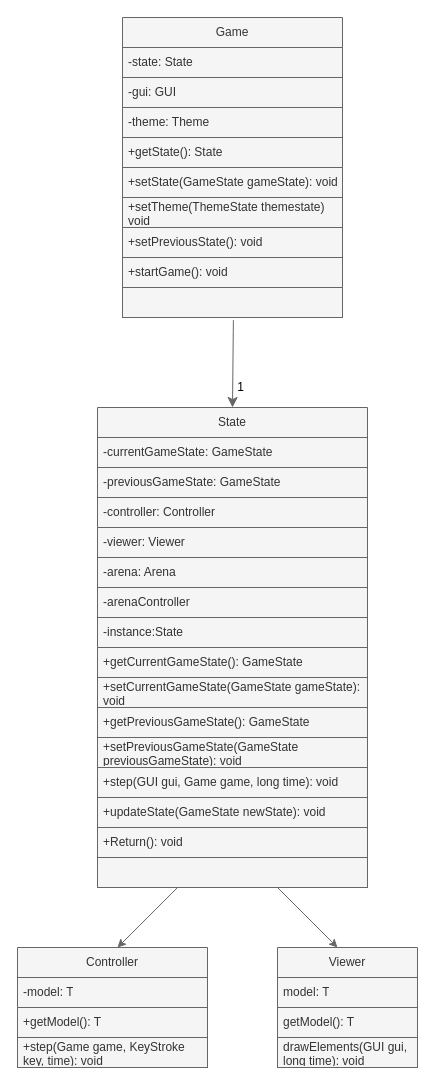
The diagram is 435 pixels wide and 1085 high, and some of its shapes have lost their labels. Here are the shapes that lost their labels. From the top down, the centre of each, then its label:
At (232,302): "+main(String[] args): void".
At (232,872): "+StateActions(): void".
